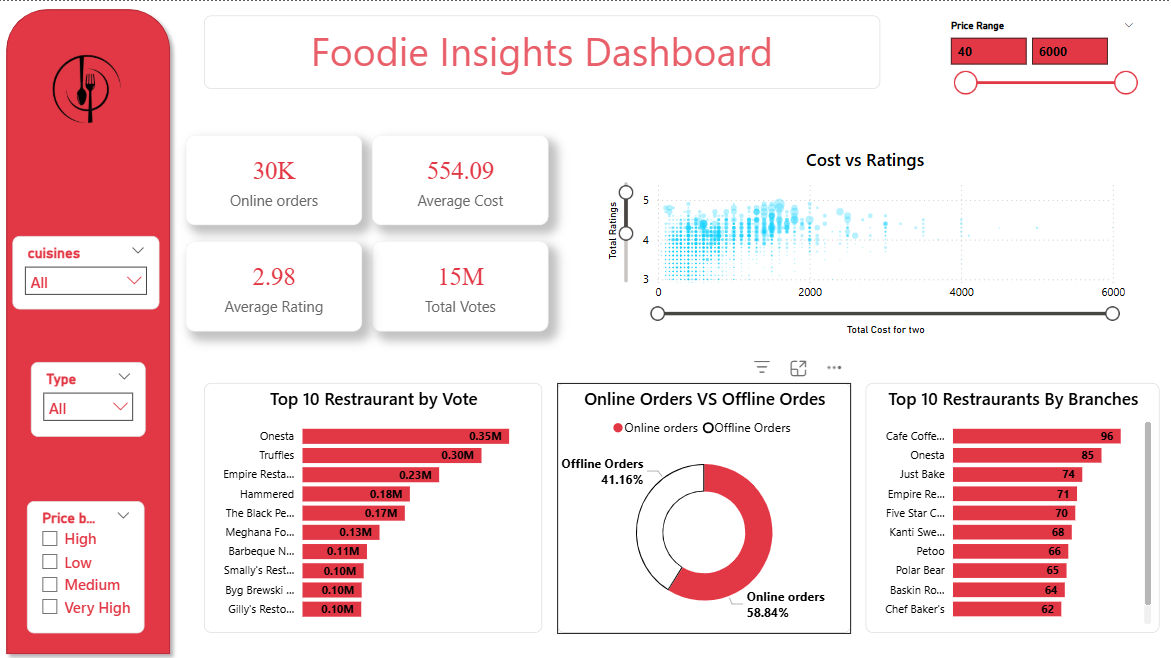

The page's visual inventory and layout, read from the dashboard file:
{"tool":"powerbi","page":{"name":"Page 6","canvas":[1280,720],"ordinal":0},"visuals":[{"type":"card","fields":{"Values":["_measures.Total Votes"]},"box":[236.5,34.2,191.9,98.2],"z":1000},{"type":"card","fields":{"Values":["_measures.Average Rating"]},"box":[780.9,138.3,191.9,98.2],"z":2000},{"type":"card","fields":{"Values":["_measures.Average Cost"]},"box":[797.2,23.8,191.9,98.2],"z":3000},{"type":"card","fields":{"Values":["_measures.Online orders"]},"box":[522.1,34.2,191.9,98.2],"z":4000},{"type":"pieChart","title":"Online Orders VS Offline Ordes","fields":{"Y":["_measures.Online orders","_measures.Offline Orders"]},"box":[435.8,154.7,296,273.7],"z":5000},{"type":"clusteredBarChart","title":"Top 10 Restraurants By Branches","fields":{"Category":["Fact table.name"],"Y":["_measures.Total Outlets"]},"box":[876.1,426.9,312.4,273.7],"z":6000},{"type":"scatterChart","title":"Cost vs Ratings","fields":{"X":["Sum(Fact table.cost_for_two)"],"Y":["Sum(Fact table.rate)"],"Category":["Fact table.rest_id"],"Size":["Sum(Fact table.votes)"]},"box":[205.3,236.5,446.2,181.5],"z":7000},{"type":"clusteredBarChart","title":"Top 10 Restraurant by Vote","fields":{"Category":["Fact table.name"],"Y":["Sum(Fact table.votes)"]},"box":[339.1,462.6,374.8,202.3],"z":8000},{"type":"shape","box":[16.4,0,177,719.9],"z":8002}]}

Visuals, with their boxes in screenshot pixels (x1, y1, x2, y2), scaled from the page's 1280x720 canvas onto the 1171x658 screenshot:
card - _measures.Total Votes: bbox(216, 31, 392, 121)
card - _measures.Average Rating: bbox(714, 126, 890, 216)
card - _measures.Average Cost: bbox(729, 22, 905, 111)
card - _measures.Online orders: bbox(478, 31, 653, 121)
"Online Orders VS Offline Ordes" pieChart: bbox(399, 141, 669, 392)
"Top 10 Restraurants By Branches" clusteredBarChart: bbox(801, 390, 1087, 640)
"Cost vs Ratings" scatterChart: bbox(188, 216, 596, 382)
"Top 10 Restraurant by Vote" clusteredBarChart: bbox(310, 423, 653, 608)
shape: bbox(15, 0, 177, 657)
